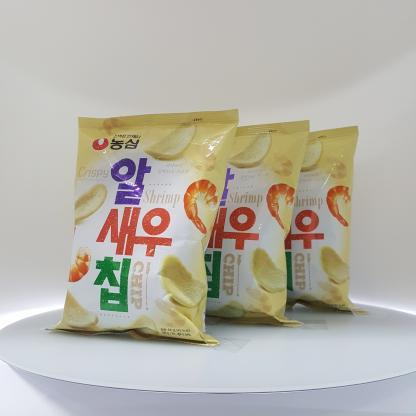Plastic Packaging: (41, 101, 379, 346)
